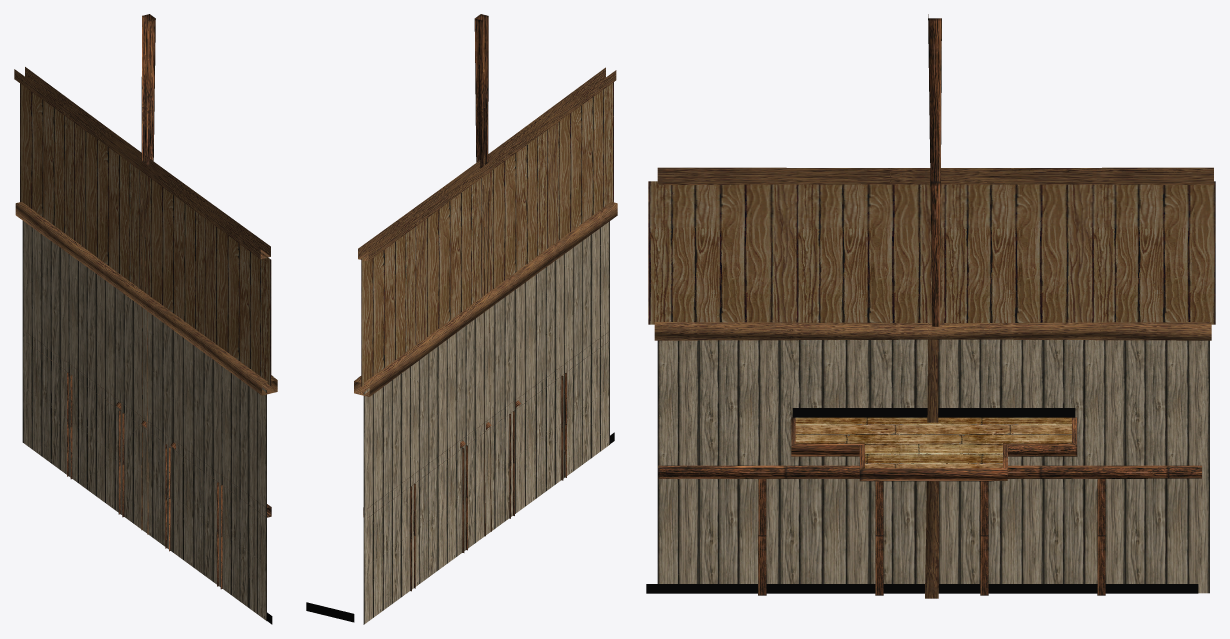
Rendered from LAKETOWN_WAREHOUSE1_PS_WH1_BACKWALL8487__GX.fbx.
The picture shows the model from 3 angles, left to right: view 1: azimuth 30°, elevation 25°; view 2: azimuth 150°, elevation 25°; view 3: azimuth 270°, elevation 25°; orthographic projection. The views are drawn at different scales.
Parts seen in each view (by area): view 1: LAKETOWN_WAREHOUSE1_PS_WH1_BACKWALL8487__GX; view 2: LAKETOWN_WAREHOUSE1_PS_WH1_BACKWALL8487__GX; view 3: LAKETOWN_WAREHOUSE1_PS_WH1_BACKWALL8487__GX.
Part boxes in pixels (left/top/right/bottom): LAKETOWN_WAREHOUSE1_PS_WH1_BACKWALL8487__GX: left=14, top=14, right=277, bottom=624; LAKETOWN_WAREHOUSE1_PS_WH1_BACKWALL8487__GX: left=306, top=14, right=617, bottom=624; LAKETOWN_WAREHOUSE1_PS_WH1_BACKWALL8487__GX: left=646, top=14, right=1215, bottom=598.
Bounding box in the file's own units: 38161 × 182549 × 162467.
7 materials, 7 textured.
